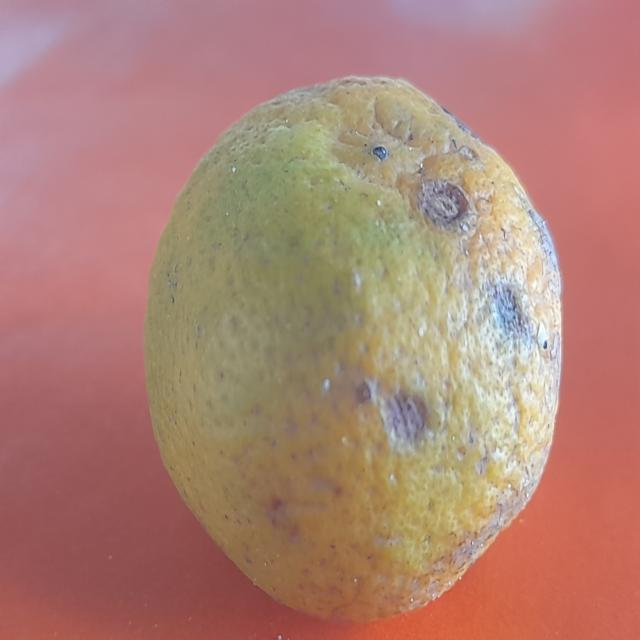black spot: (112, 61, 596, 634)
